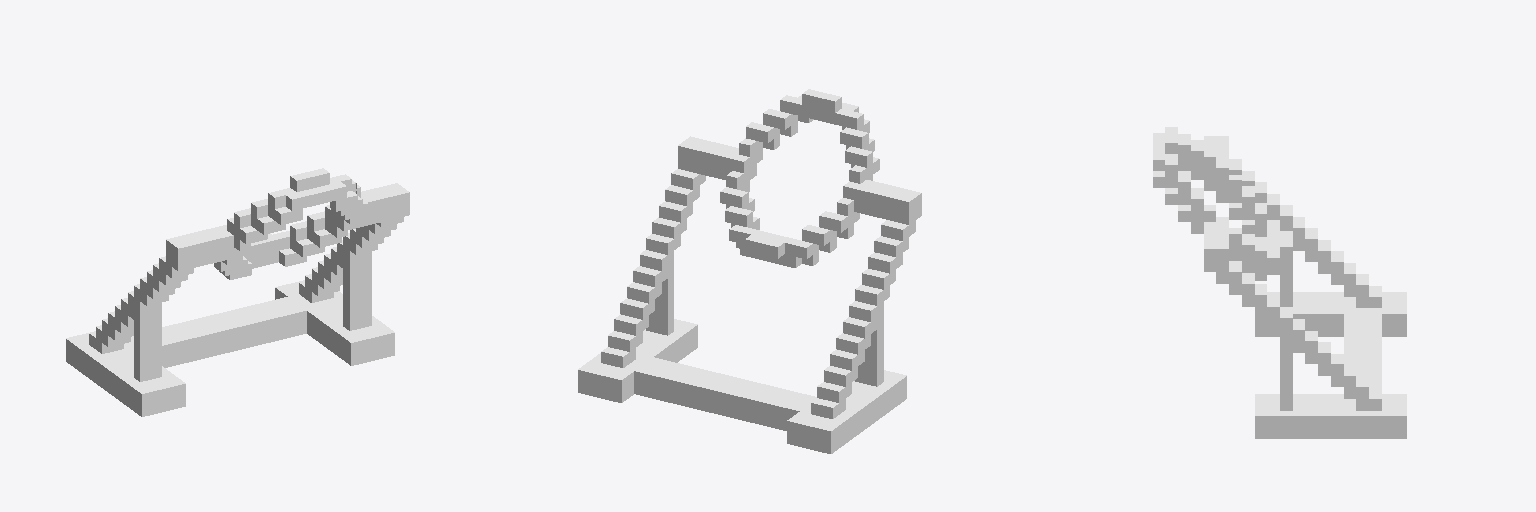
Rendered from solarHeater.obj.
3 renders of one model, left to right at view 1: azimuth 30°, elevation 25°; view 2: azimuth 150°, elevation 25°; view 3: azimuth 270°, elevation 25°, orthographic.
Size of the model in its own units: 0.92 by 0.84 by 0.8.